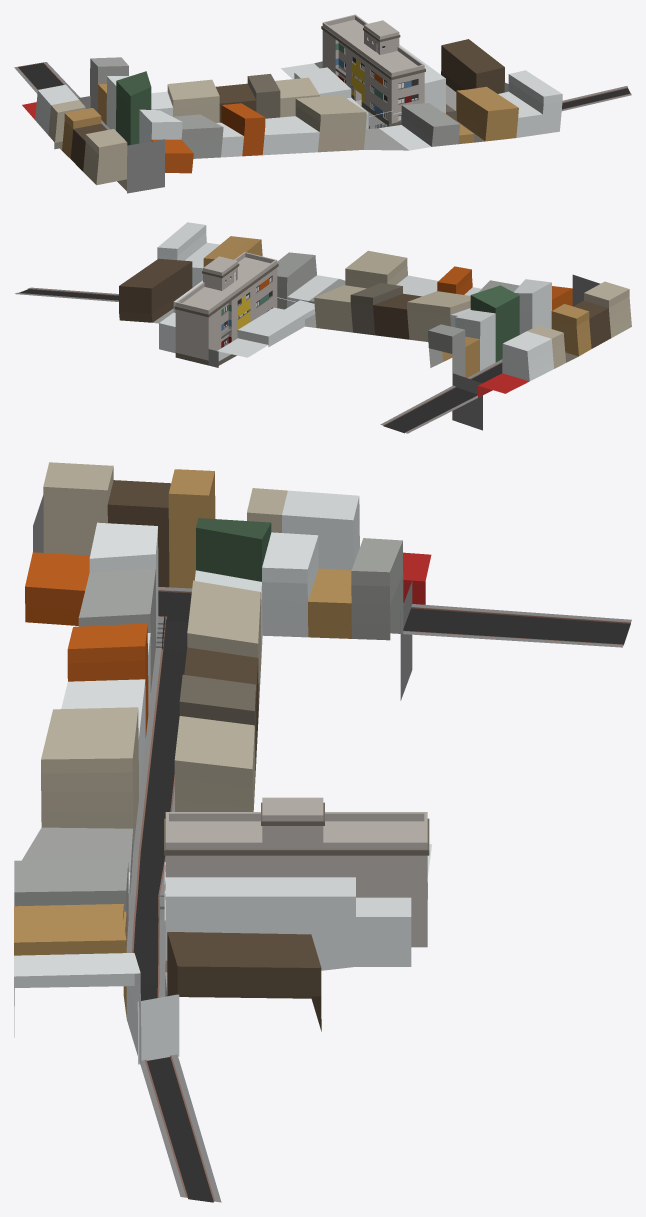
The model's file is ServeisSocials 1.fbx.
3 views of the same model, one above another, from view 1: azimuth 30°, elevation 25°; view 2: azimuth 150°, elevation 25°; view 3: azimuth 270°, elevation 25° (orthographic). The views are drawn at different scales.
Parts seen in each view (by area): view 1: BuildingsZone, ServeisSocialsFinished, Limit, Street; view 2: BuildingsZone, ServeisSocialsFinished, Street, Limit; view 3: BuildingsZone, Street, ServeisSocialsFinished, Limit.
Boxes of the visible parts, x1,y1,x2,y2 form: BuildingsZone: (22, 39, 562, 190); ServeisSocialsFinished: (321, 14, 425, 128); Limit: (54, 61, 508, 193); Street: (14, 62, 631, 191); BuildingsZone: (119, 222, 631, 397); ServeisSocialsFinished: (174, 252, 296, 365); Street: (15, 287, 502, 433); Limit: (208, 274, 600, 430); BuildingsZone: (14, 462, 432, 1066); Street: (126, 587, 631, 1202); ServeisSocialsFinished: (159, 797, 429, 947); Limit: (33, 494, 412, 1064).
Size of what is drawn, in the model's own units: 12125 by 2455 by 5956.
